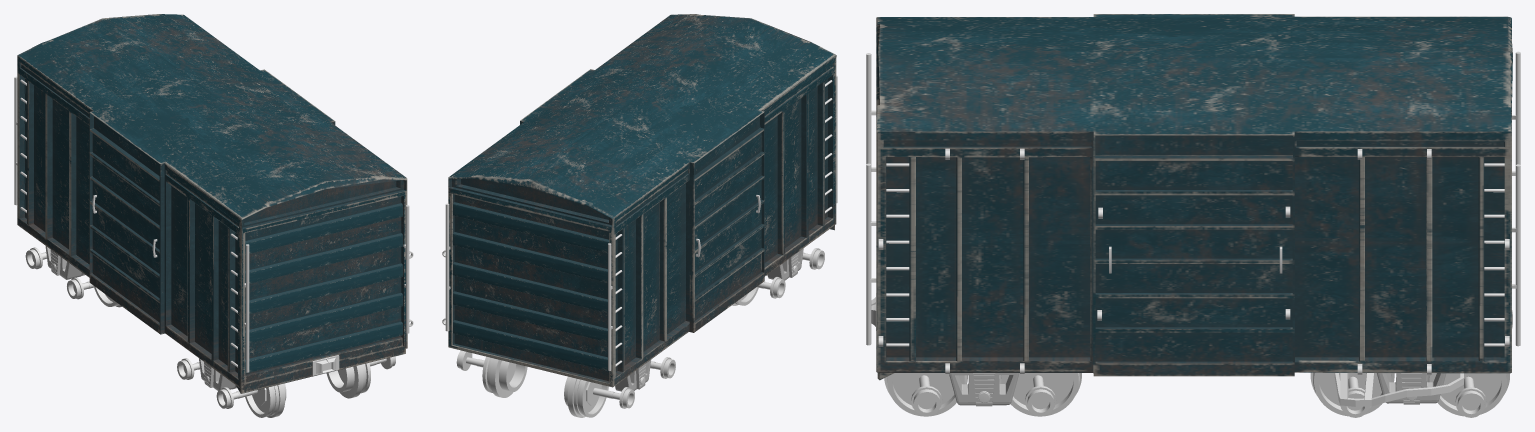
File: train-car-sketchfab.fbx
3 renders of one model, left to right at view 1: azimuth 30°, elevation 25°; view 2: azimuth 150°, elevation 25°; view 3: azimuth 270°, elevation 25°, orthographic. The views are drawn at different scales.
Visible parts, largest first — view 1: Cube.014, Cube.000, Cube.018, Cube.016, Cube.017, Cube.015, Cylinder.165, Cylinder.105, Cube.031, Cube.030, Cylinder.059, Cylinder.060 (+4 smaller); view 2: Cube.014, Cube.019, Cube.023, Cube.022, Cube.020, Cube.021, Cylinder.156, Cylinder.153, Cylinder.058, Cube.030, Cube.031, Cylinder.057 (+2 smaller); view 3: Cube.014, Cube.033, Plane.001, Cube.032, Cylinder.165, Cylinder.162, Cylinder.156, Cylinder.060, Cylinder.159, Cylinder.058, Cylinder.160, Cylinder.163 (+4 smaller).
Part boxes in pixels (x1=…): Cube.014: x1=17, y1=14, x2=407, y2=393; Cube.000: x1=245, y1=203, x2=402, y2=254; Cube.018: x1=245, y1=321, x2=402, y2=373; Cube.016: x1=245, y1=263, x2=402, y2=315; Cube.017: x1=245, y1=293, x2=402, y2=344; Cube.015: x1=245, y1=233, x2=402, y2=283; Cylinder.165: x1=326, y1=363, x2=370, y2=398; Cylinder.105: x1=245, y1=383, x2=286, y2=417; Cube.031: x1=45, y1=246, x2=81, y2=279; Cube.030: x1=199, y1=358, x2=234, y2=390; Cylinder.059: x1=243, y1=244, x2=249, y2=372; Cylinder.060: x1=403, y1=205, x2=409, y2=333; Cube.014: x1=448, y1=14, x2=836, y2=387; Cube.019: x1=453, y1=202, x2=609, y2=253; Cube.023: x1=453, y1=320, x2=609, y2=371; Cube.022: x1=453, y1=291, x2=607, y2=342; Cube.020: x1=453, y1=232, x2=607, y2=282; Cube.021: x1=453, y1=262, x2=607, y2=312; Cylinder.156: x1=482, y1=356, x2=527, y2=397; Cylinder.153: x1=564, y1=376, x2=608, y2=417; Cylinder.058: x1=445, y1=203, x2=450, y2=331; Cube.030: x1=767, y1=248, x2=803, y2=280; Cube.031: x1=615, y1=360, x2=650, y2=391; Cylinder.057: x1=608, y1=243, x2=612, y2=370; Cube.014: x1=876, y1=14, x2=1512, y2=380; Cube.033: x1=949, y1=373, x2=1019, y2=406; Plane.001: x1=1334, y1=373, x2=1463, y2=406; Cube.032: x1=1377, y1=373, x2=1446, y2=404; Cylinder.165: x1=884, y1=373, x2=967, y2=416; Cylinder.162: x1=999, y1=373, x2=1081, y2=416; Cylinder.156: x1=1426, y1=373, x2=1509, y2=416; Cylinder.060: x1=866, y1=163, x2=876, y2=345; Cylinder.159: x1=1310, y1=372, x2=1394, y2=416; Cylinder.058: x1=1512, y1=164, x2=1520, y2=346; Cylinder.160: x1=1025, y1=375, x2=1056, y2=416; Cylinder.163: x1=911, y1=375, x2=942, y2=416.
Bounding box in the file's own units: 557 × 692 × 1230.
